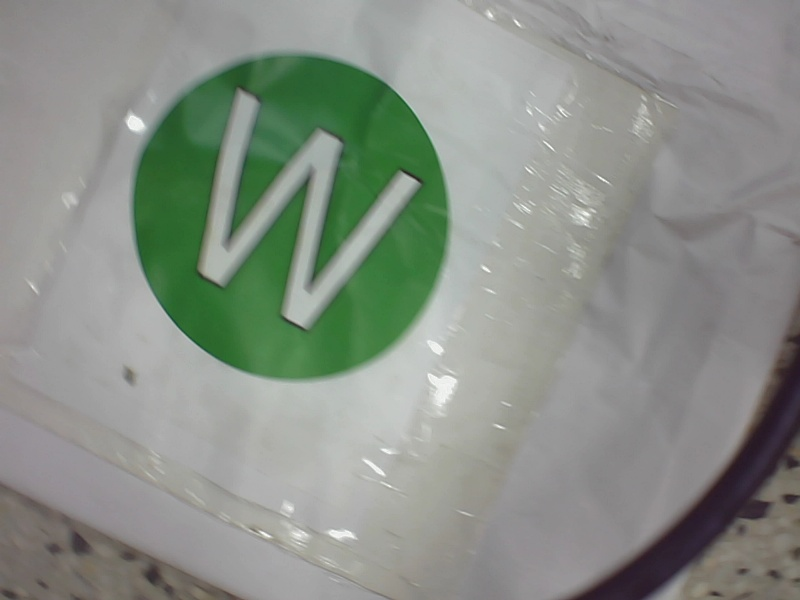areaB: (116, 36, 461, 384)
